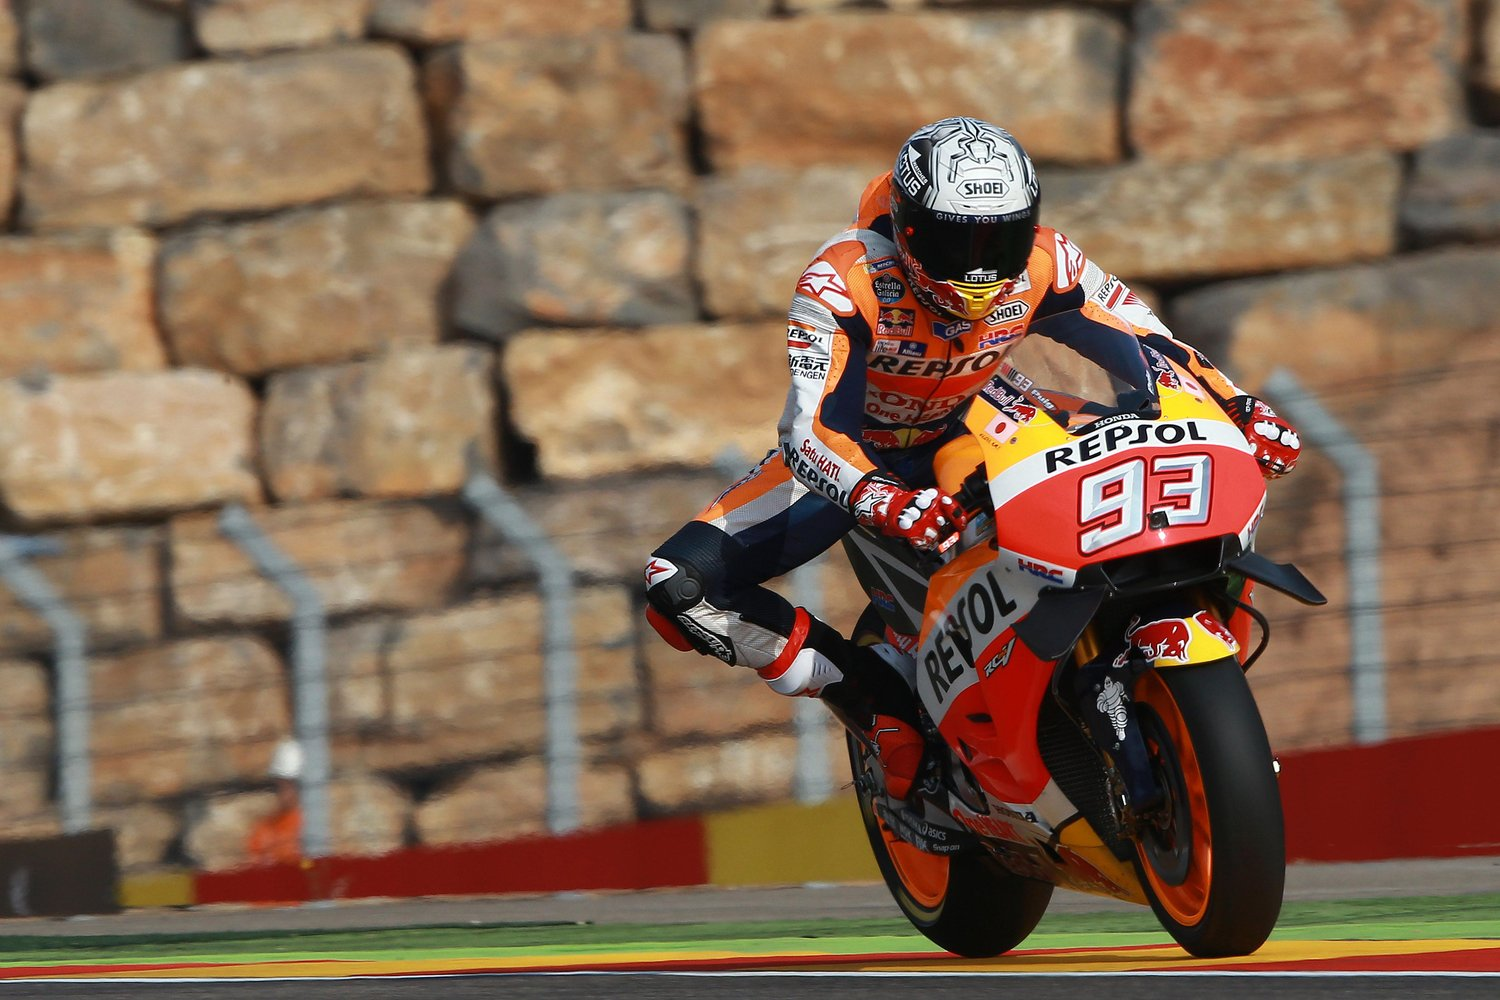helmet: (886, 96, 1055, 324)
